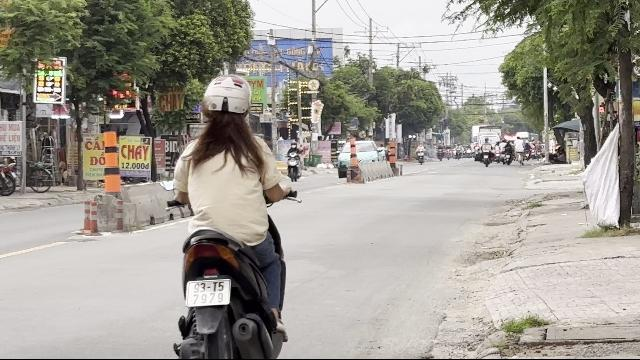helmet: (198, 75, 252, 125)
licenseplate: (186, 279, 230, 307)
motorcyclist: (166, 70, 300, 356)
